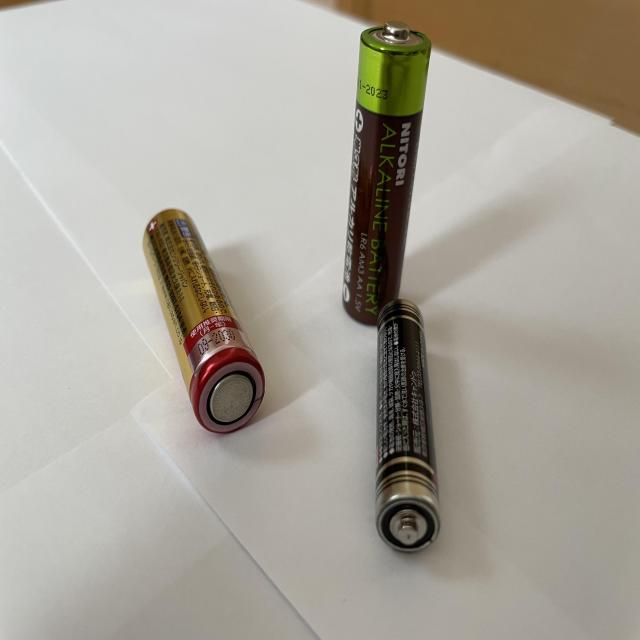AA: (141, 208, 265, 436), (342, 22, 432, 327)
AAA: (377, 299, 441, 555)
